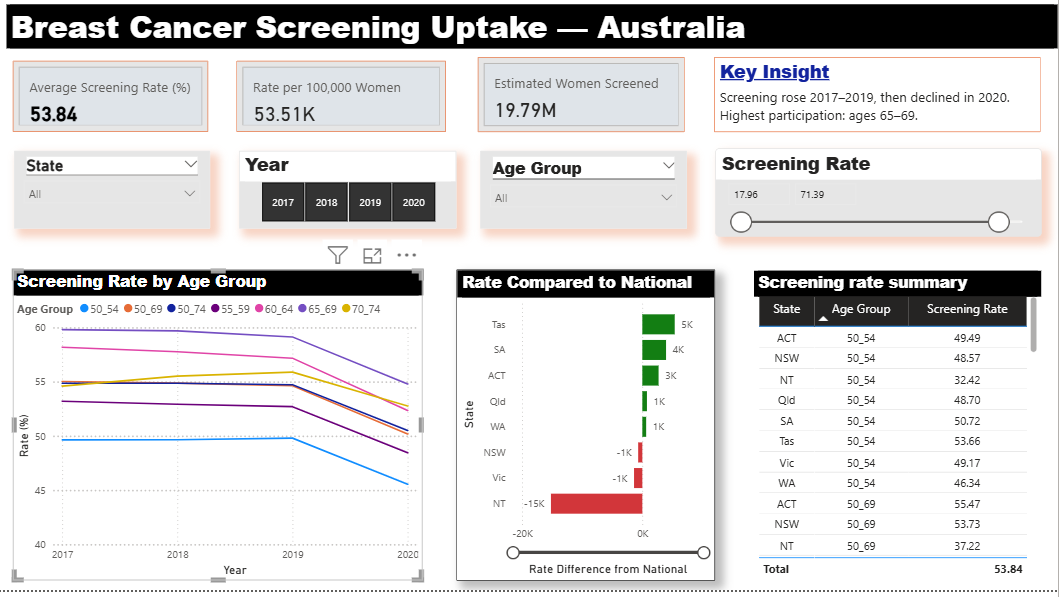

The dashboard page shown, as its layout file describes it:
{"tool":"powerbi","page":{"name":"Screening Dashboard","canvas":[1280,720],"ordinal":0},"visuals":[{"type":"textbox","box":[10,0,280,280],"z":0},{"type":"textbox","box":[9,83.7,237.5,196.8],"z":1000},{"type":"textbox","title":"Breast Cancer Screening Uptake — Australia","box":[15,15,1265,52.5],"z":2000},{"type":"cardVisual","fields":{"Data":["screening.Avg Screening Rate"]},"box":[21.9,83.4,235.6,85.5],"z":3000},{"type":"cardVisual","fields":{"Data":["screening.Screening Rate per 100k"]},"box":[292,83.4,252.1,85.5],"z":4000},{"type":"cardVisual","fields":{"Data":["screening.Women Screened Estimate"]},"box":[581.6,78.9,249.1,90],"z":5000},{"type":"slicer","fields":{"Values":["screening.state"]},"box":[24.1,191,234.6,93.3],"z":6000},{"type":"slicer","title":"Year","fields":{"Values":["screening.year"]},"box":[294.8,191.2,261.5,93.8],"z":7000},{"type":"slicer","fields":{"Values":["screening.age_group"]},"box":[584.7,191.2,248.7,93.8],"z":8000},{"type":"slicer","title":"Screening Rate","fields":{"Values":["screening.rate"]},"box":[867.3,187.6,393.2,106.5],"z":9000},{"type":"lineChart","title":"Screening Rate by Age Group","fields":{"Series":["screening.age_group"],"Category":["screening.year"],"Y":["screening.Avg Screening Rate"]},"box":[22.6,333.9,493.3,374.5],"z":10000},{"type":"tableEx","title":"Screening rate summary","fields":{"Values":["screening.state","screening.age_group","screening.Avg Screening Rate"]},"box":[914.5,335.4,345.9,374.5],"z":11000},{"type":"textbox","title":"Key Insight","box":[866.4,78.2,392.6,90.2],"z":12000},{"type":"clusteredBarChart","title":"Rate Compared to National","fields":{"Category":["screening.state"],"Y":["screening.Rate vs National Avg"]},"box":[556.5,333.9,311.4,374.5],"z":13000}]}

Visuals, with their boxes in screenshot pixels (x1, y1, x2, y2), scaled from the page's 1280x720 canvas onto the 1063x597 screenshot:
textbox: [8,0,241,232]
textbox: [7,69,205,233]
"Breast Cancer Screening Uptake — Australia" textbox: [12,12,1062,56]
cardVisual - screening.Avg Screening Rate: [18,69,214,140]
cardVisual - screening.Screening Rate per 100k: [242,69,452,140]
cardVisual - screening.Women Screened Estimate: [483,65,690,140]
slicer - screening.state: [20,158,215,236]
"Year" slicer: [245,159,462,236]
slicer - screening.age_group: [486,159,692,236]
"Screening Rate" slicer: [720,156,1047,244]
"Screening Rate by Age Group" lineChart: [19,277,428,587]
"Screening rate summary" tableEx: [759,278,1047,589]
"Key Insight" textbox: [720,65,1046,140]
"Rate Compared to National" clusteredBarChart: [462,277,721,587]
